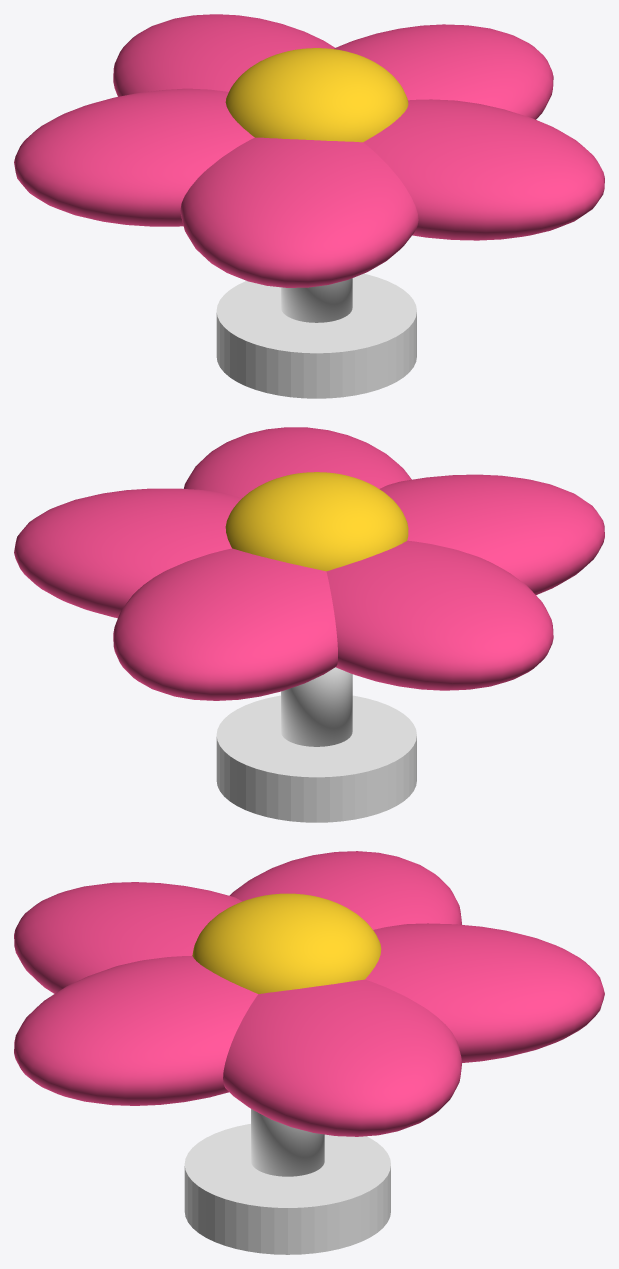
Rendered from charms_hoa.glb.
3 renders of one model, top to bottom at view 1: azimuth 30°, elevation 25°; view 2: azimuth 150°, elevation 25°; view 3: azimuth 270°, elevation 25°, orthographic. The views are drawn at different scales.
Visible parts, largest first — view 1: Petal_4, Petal_3, Petal_5, Attachment_Base, Flower_Center, Petal_2, Petal_1, Attachment_Peg; view 2: Petal_1, Petal_5, Attachment_Base, Petal_2, Petal_4, Flower_Center, Petal_3, Attachment_Peg; view 3: Petal_2, Petal_3, Petal_1, Attachment_Base, Petal_4, Flower_Center, Petal_5, Attachment_Peg.
Part boxes in pixels (x1,y1,x2,y2): Petal_4: (180, 137, 418, 287); Petal_3: (363, 99, 604, 240); Petal_5: (14, 88, 254, 226); Attachment_Base: (216, 273, 416, 398); Flower_Center: (225, 48, 408, 142); Petal_2: (334, 24, 553, 119); Petal_1: (113, 14, 334, 96); Attachment_Peg: (281, 278, 352, 322); Petal_1: (113, 548, 337, 700); Petal_5: (326, 540, 553, 690); Attachment_Base: (216, 695, 416, 822); Petal_2: (14, 488, 241, 618); Petal_4: (379, 474, 604, 594); Flower_Center: (225, 472, 408, 571); Petal_3: (183, 427, 411, 497); Attachment_Peg: (281, 667, 352, 746); Petal_2: (223, 979, 462, 1136); Petal_3: (14, 956, 257, 1105); Petal_1: (365, 923, 604, 1062); Attachment_Base: (184, 1124, 390, 1254); Petal_4: (14, 882, 241, 993); Flower_Center: (192, 893, 381, 993); Petal_5: (229, 851, 461, 929); Attachment_Peg: (251, 1109, 324, 1176).
Size of the model in its own units: 0.4148 by 0.2275 by 0.4007.
